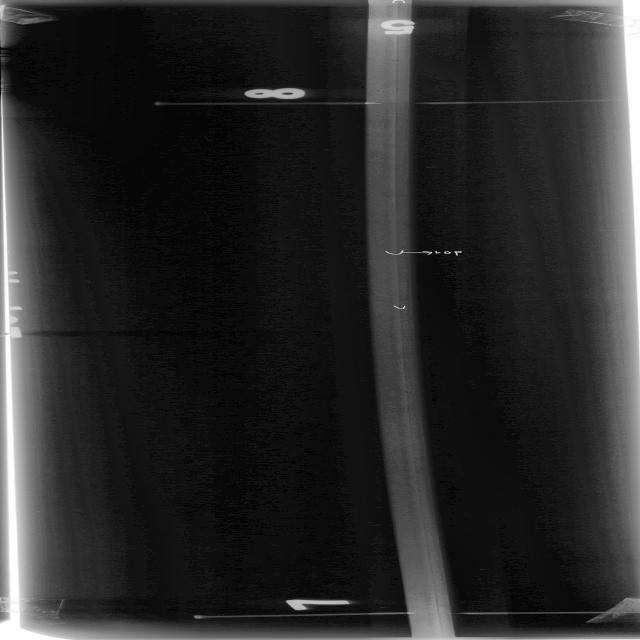LOP: (388, 105, 404, 195), (388, 258, 418, 305), (389, 36, 404, 101), (389, 196, 405, 250), (393, 3, 405, 18)
